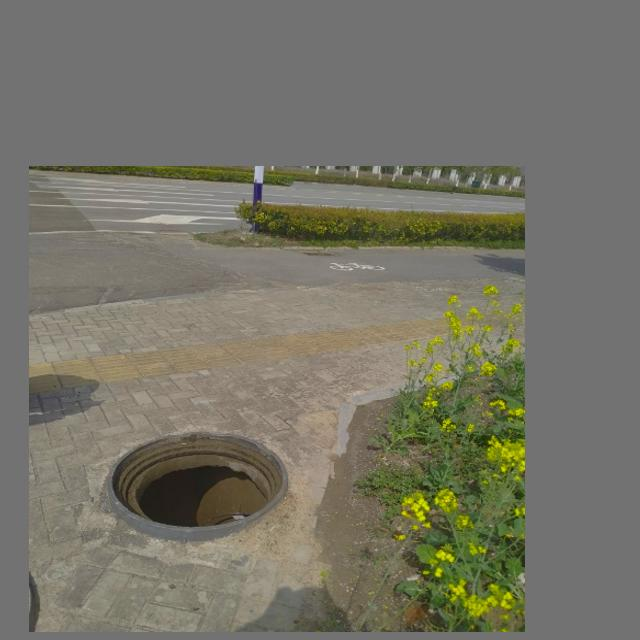lose: (106, 431, 287, 542)
